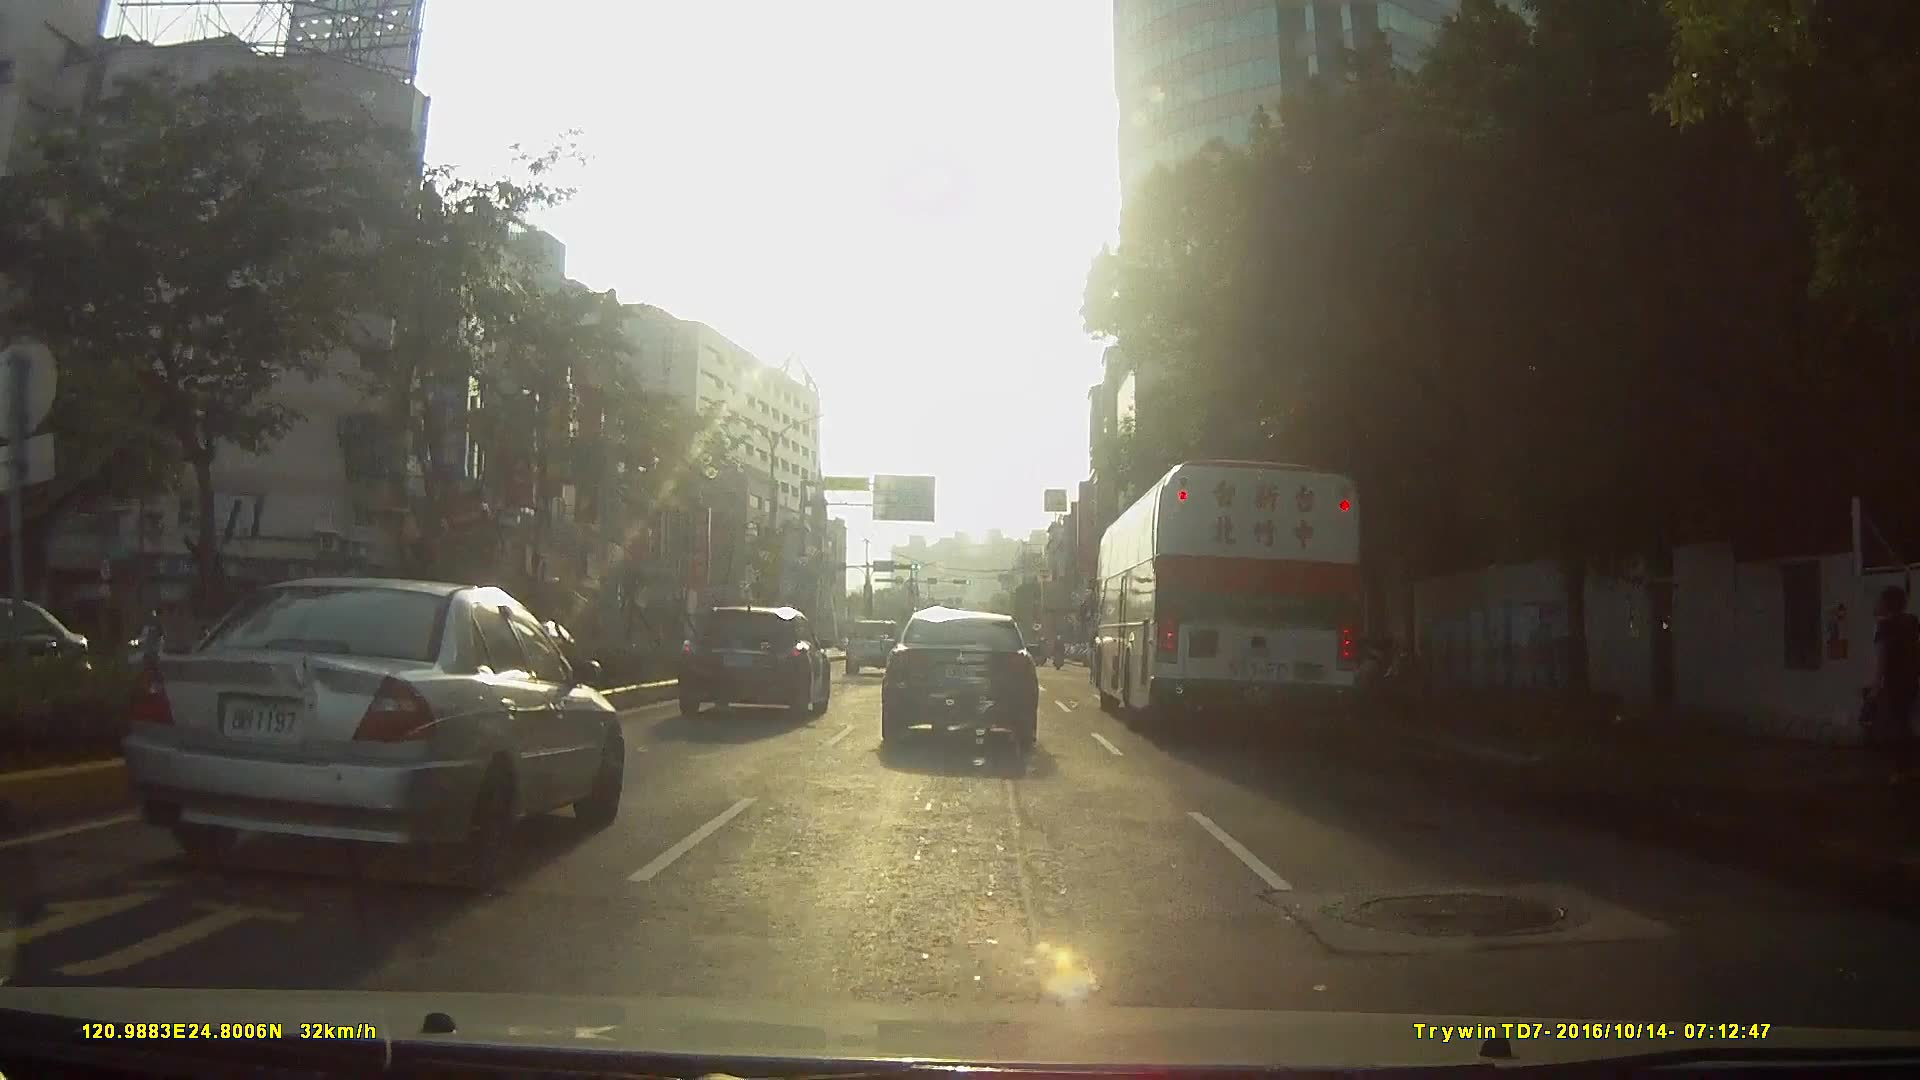pedestrian: (1865, 589, 1919, 780)
rider: (115, 608, 174, 689)
vehicle: (116, 574, 625, 894), (1098, 449, 1377, 731), (878, 608, 1041, 752), (676, 602, 832, 720), (1, 602, 99, 709), (846, 618, 903, 676)
